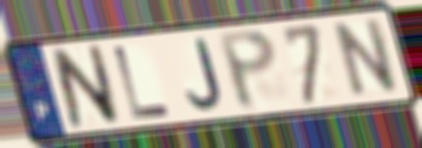7: (281, 21, 324, 107)
J: (183, 35, 225, 113)
L: (110, 43, 174, 122)
N: (48, 42, 123, 131), (331, 16, 402, 101)
P: (214, 26, 280, 113)
